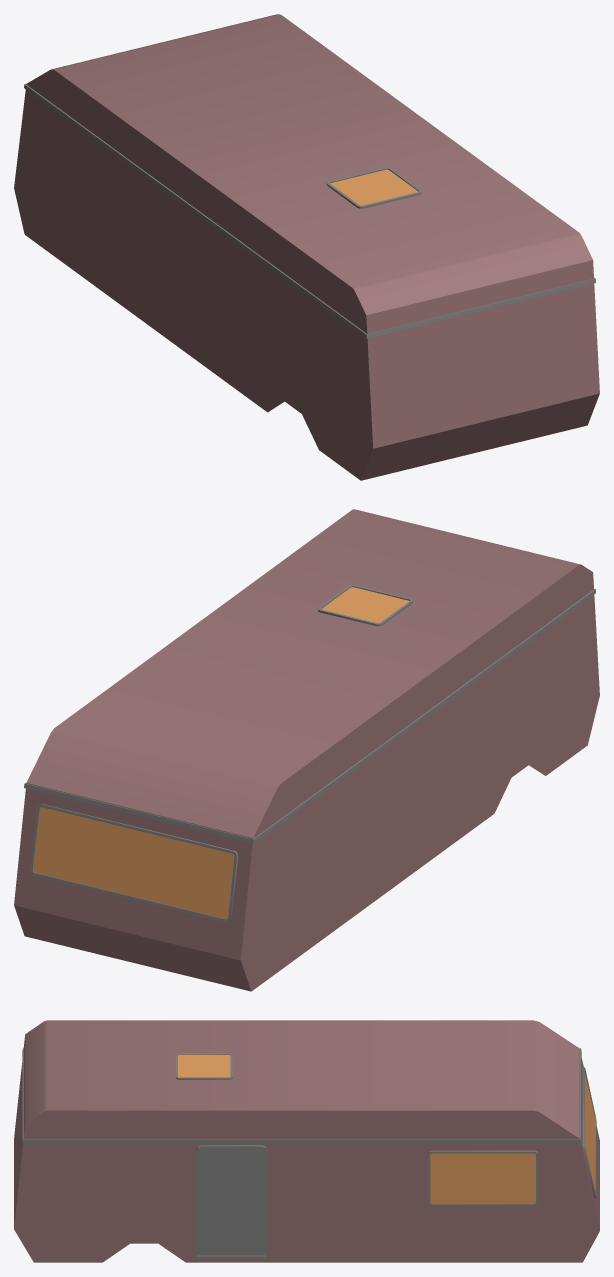
File: SM_Shack.fbx
3 renders of one model, top to bottom at view 1: azimuth 30°, elevation 25°; view 2: azimuth 150°, elevation 25°; view 3: azimuth 270°, elevation 25°, orthographic. The views are drawn at different scales.
Parts seen in each view (by area): view 1: BezierCurve.001; view 2: BezierCurve.001; view 3: BezierCurve.001.
Boxes of the visible parts, left/top/right/bottom form: BezierCurve.001: left=14, top=14, right=599, bottom=480; BezierCurve.001: left=14, top=509, right=599, bottom=991; BezierCurve.001: left=14, top=1020, right=599, bottom=1262.
Bounding box in the file's own units: 69.98 × 54.62 × 189.
